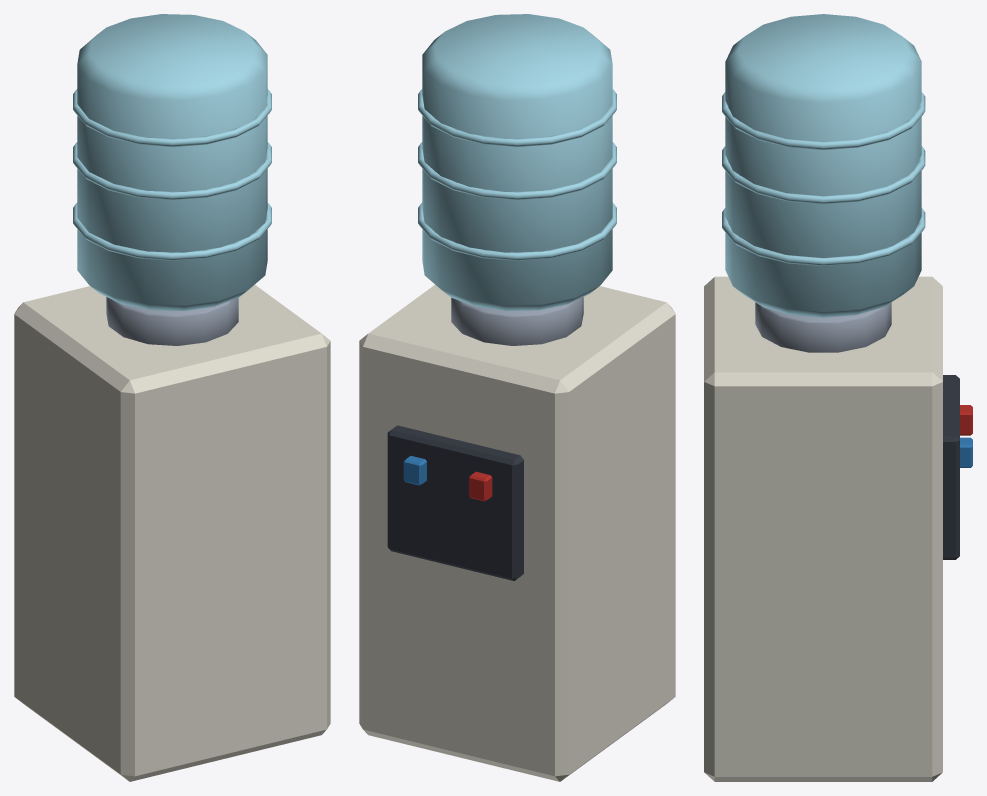
File: prop_water_cooler.obj
The picture shows the model from 3 angles, left to right: view 1: azimuth 30°, elevation 25°; view 2: azimuth 150°, elevation 25°; view 3: azimuth 270°, elevation 25°; orthographic projection. The views are drawn at different scales.
Visible parts, largest first — view 1: Base, Jug, Collar, JugRib_1.36, JugRib_1.52, JugRib_1.66; view 2: Base, Jug, Recess, Collar, JugRib_1.36, JugRib_1.52, JugRib_1.66, TapCold, TapHot; view 3: Base, Jug, Collar, Recess, JugRib_1.52, JugRib_1.36, JugRib_1.66.
Boxes of the visible parts, x1=… form: Base: x1=14, y1=284, x2=330, y2=781; Jug: x1=77, y1=14, x2=267, y2=311; Collar: x1=106, y1=297, x2=238, y2=345; JugRib_1.36: x1=73, y1=202, x2=271, y2=260; JugRib_1.52: x1=73, y1=142, x2=271, y2=199; JugRib_1.66: x1=73, y1=89, x2=271, y2=146; Base: x1=359, y1=284, x2=675, y2=781; Jug: x1=422, y1=14, x2=612, y2=311; Recess: x1=387, y1=425, x2=523, y2=580; Collar: x1=451, y1=297, x2=583, y2=345; JugRib_1.36: x1=418, y1=202, x2=616, y2=260; JugRib_1.52: x1=418, y1=142, x2=616, y2=199; JugRib_1.66: x1=418, y1=89, x2=616, y2=146; TapCold: x1=403, y1=456, x2=426, y2=485; TapHot: x1=469, y1=471, x2=492, y2=501; Base: x1=704, y1=276, x2=942, y2=781; Jug: x1=725, y1=14, x2=921, y2=317; Collar: x1=755, y1=302, x2=891, y2=352; Recess: x1=943, y1=375, x2=959, y2=559; JugRib_1.52: x1=722, y1=146, x2=925, y2=204; JugRib_1.36: x1=722, y1=208, x2=925, y2=265; JugRib_1.66: x1=722, y1=92, x2=925, y2=149.
Bounding box in the file's own units: 0.58 × 1.77 × 0.63.
